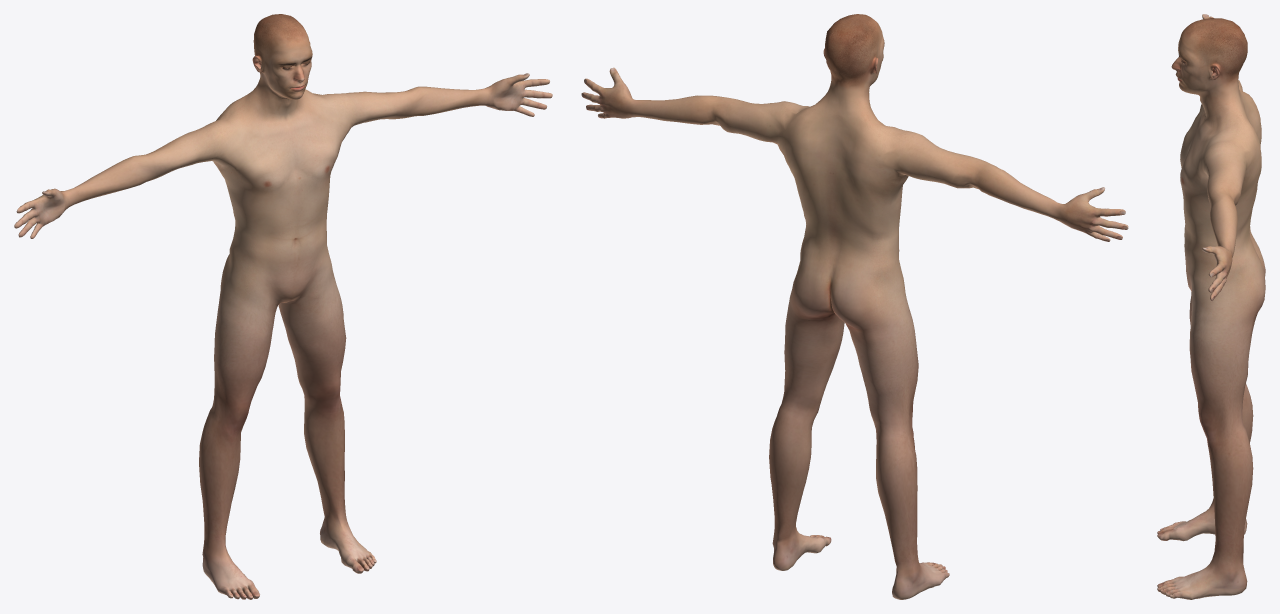
Rendered from patient.glb.
The picture shows the model from 3 angles, left to right: view 1: azimuth 30°, elevation 25°; view 2: azimuth 150°, elevation 25°; view 3: azimuth 270°, elevation 25°; orthographic projection. The views are drawn at different scales.
Visible parts, largest first — view 1: body; view 2: body; view 3: body.
Boxes of the visible parts, left/top/right/bottom form: body: left=14, top=14, right=552, bottom=599; body: left=581, top=14, right=1128, bottom=599; body: left=1157, top=14, right=1265, bottom=599.
Size of the model in its own units: 1.79 by 1.75 by 0.3158.
3 materials, 3 textured.
